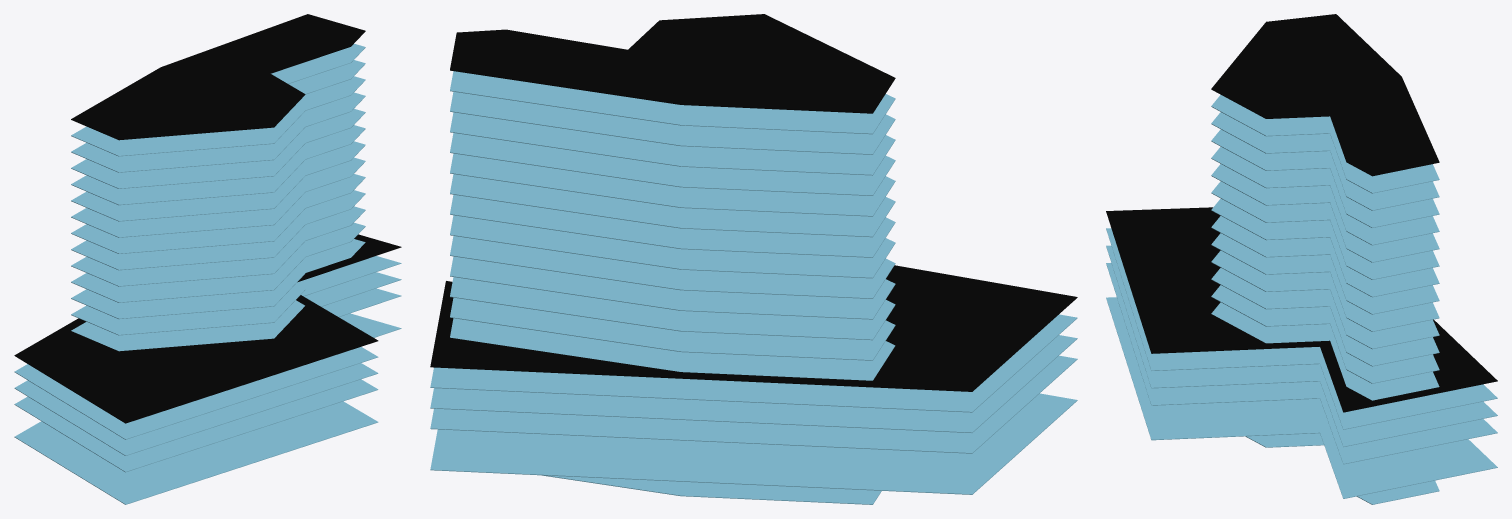
The model's file is designOption5.glb.
3 views of the same model, side by side, from view 1: azimuth 30°, elevation 25°; view 2: azimuth 150°, elevation 25°; view 3: azimuth 270°, elevation 25° (orthographic). The views are drawn at different scales.
Visible parts, largest first — view 1: 758_mesh, 644_mesh, 743_mesh, 755_mesh, 751_mesh, 747_mesh, 732_mesh, 727_mesh, 707_mesh, 677_mesh, 712_mesh, 692_mesh (+7 smaller); view 2: 644_mesh, 743_mesh, 758_mesh, 755_mesh, 747_mesh, 751_mesh, 732_mesh, 722_mesh, 727_mesh, 697_mesh, 677_mesh, 692_mesh (+8 smaller); view 3: 644_mesh, 758_mesh, 743_mesh, 751_mesh, 747_mesh, 755_mesh, 687_mesh, 727_mesh, 692_mesh, 697_mesh, 722_mesh, 732_mesh (+8 smaller).
Boxes of the visible parts, x1=… form: 758_mesh: x1=14, y1=234, x2=401, y2=423; 644_mesh: x1=71, y1=14, x2=365, y2=140; 743_mesh: x1=14, y1=313, x2=401, y2=504; 755_mesh: x1=14, y1=256, x2=401, y2=439; 751_mesh: x1=14, y1=272, x2=401, y2=455; 747_mesh: x1=14, y1=288, x2=401, y2=472; 732_mesh: x1=71, y1=43, x2=365, y2=156; 727_mesh: x1=71, y1=60, x2=365, y2=172; 707_mesh: x1=71, y1=125, x2=365, y2=237; 677_mesh: x1=71, y1=222, x2=365, y2=335; 712_mesh: x1=71, y1=109, x2=365, y2=221; 692_mesh: x1=71, y1=174, x2=365, y2=286; 644_mesh: x1=450, y1=14, x2=895, y2=113; 743_mesh: x1=430, y1=393, x2=1077, y2=494; 758_mesh: x1=430, y1=265, x2=1077, y2=391; 755_mesh: x1=430, y1=314, x2=1077, y2=412; 747_mesh: x1=430, y1=355, x2=1077, y2=453; 751_mesh: x1=430, y1=335, x2=1077, y2=432; 732_mesh: x1=450, y1=71, x2=895, y2=134; 722_mesh: x1=450, y1=112, x2=895, y2=175; 727_mesh: x1=450, y1=91, x2=895, y2=154; 697_mesh: x1=450, y1=215, x2=895, y2=278; 677_mesh: x1=450, y1=297, x2=895, y2=360; 692_mesh: x1=450, y1=236, x2=895, y2=298; 644_mesh: x1=1211, y1=14, x2=1439, y2=176; 758_mesh: x1=1106, y1=207, x2=1497, y2=412; 743_mesh: x1=1106, y1=297, x2=1497, y2=498; 751_mesh: x1=1106, y1=245, x2=1497, y2=447; 747_mesh: x1=1106, y1=263, x2=1497, y2=464; 755_mesh: x1=1106, y1=228, x2=1497, y2=429; 687_mesh: x1=1211, y1=250, x2=1439, y2=349; 727_mesh: x1=1211, y1=112, x2=1439, y2=210; 692_mesh: x1=1211, y1=233, x2=1439, y2=331; 697_mesh: x1=1211, y1=216, x2=1439, y2=314; 722_mesh: x1=1211, y1=129, x2=1439, y2=227; 732_mesh: x1=1211, y1=95, x2=1439, y2=193.
Size of what is drawn, in the model's own units: 82633 by 60900 by 65694.
